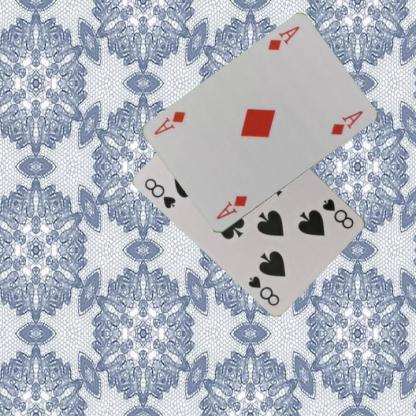8s: (320, 196, 356, 230), (142, 176, 178, 210)
Ad: (264, 23, 302, 52), (214, 192, 249, 222)
